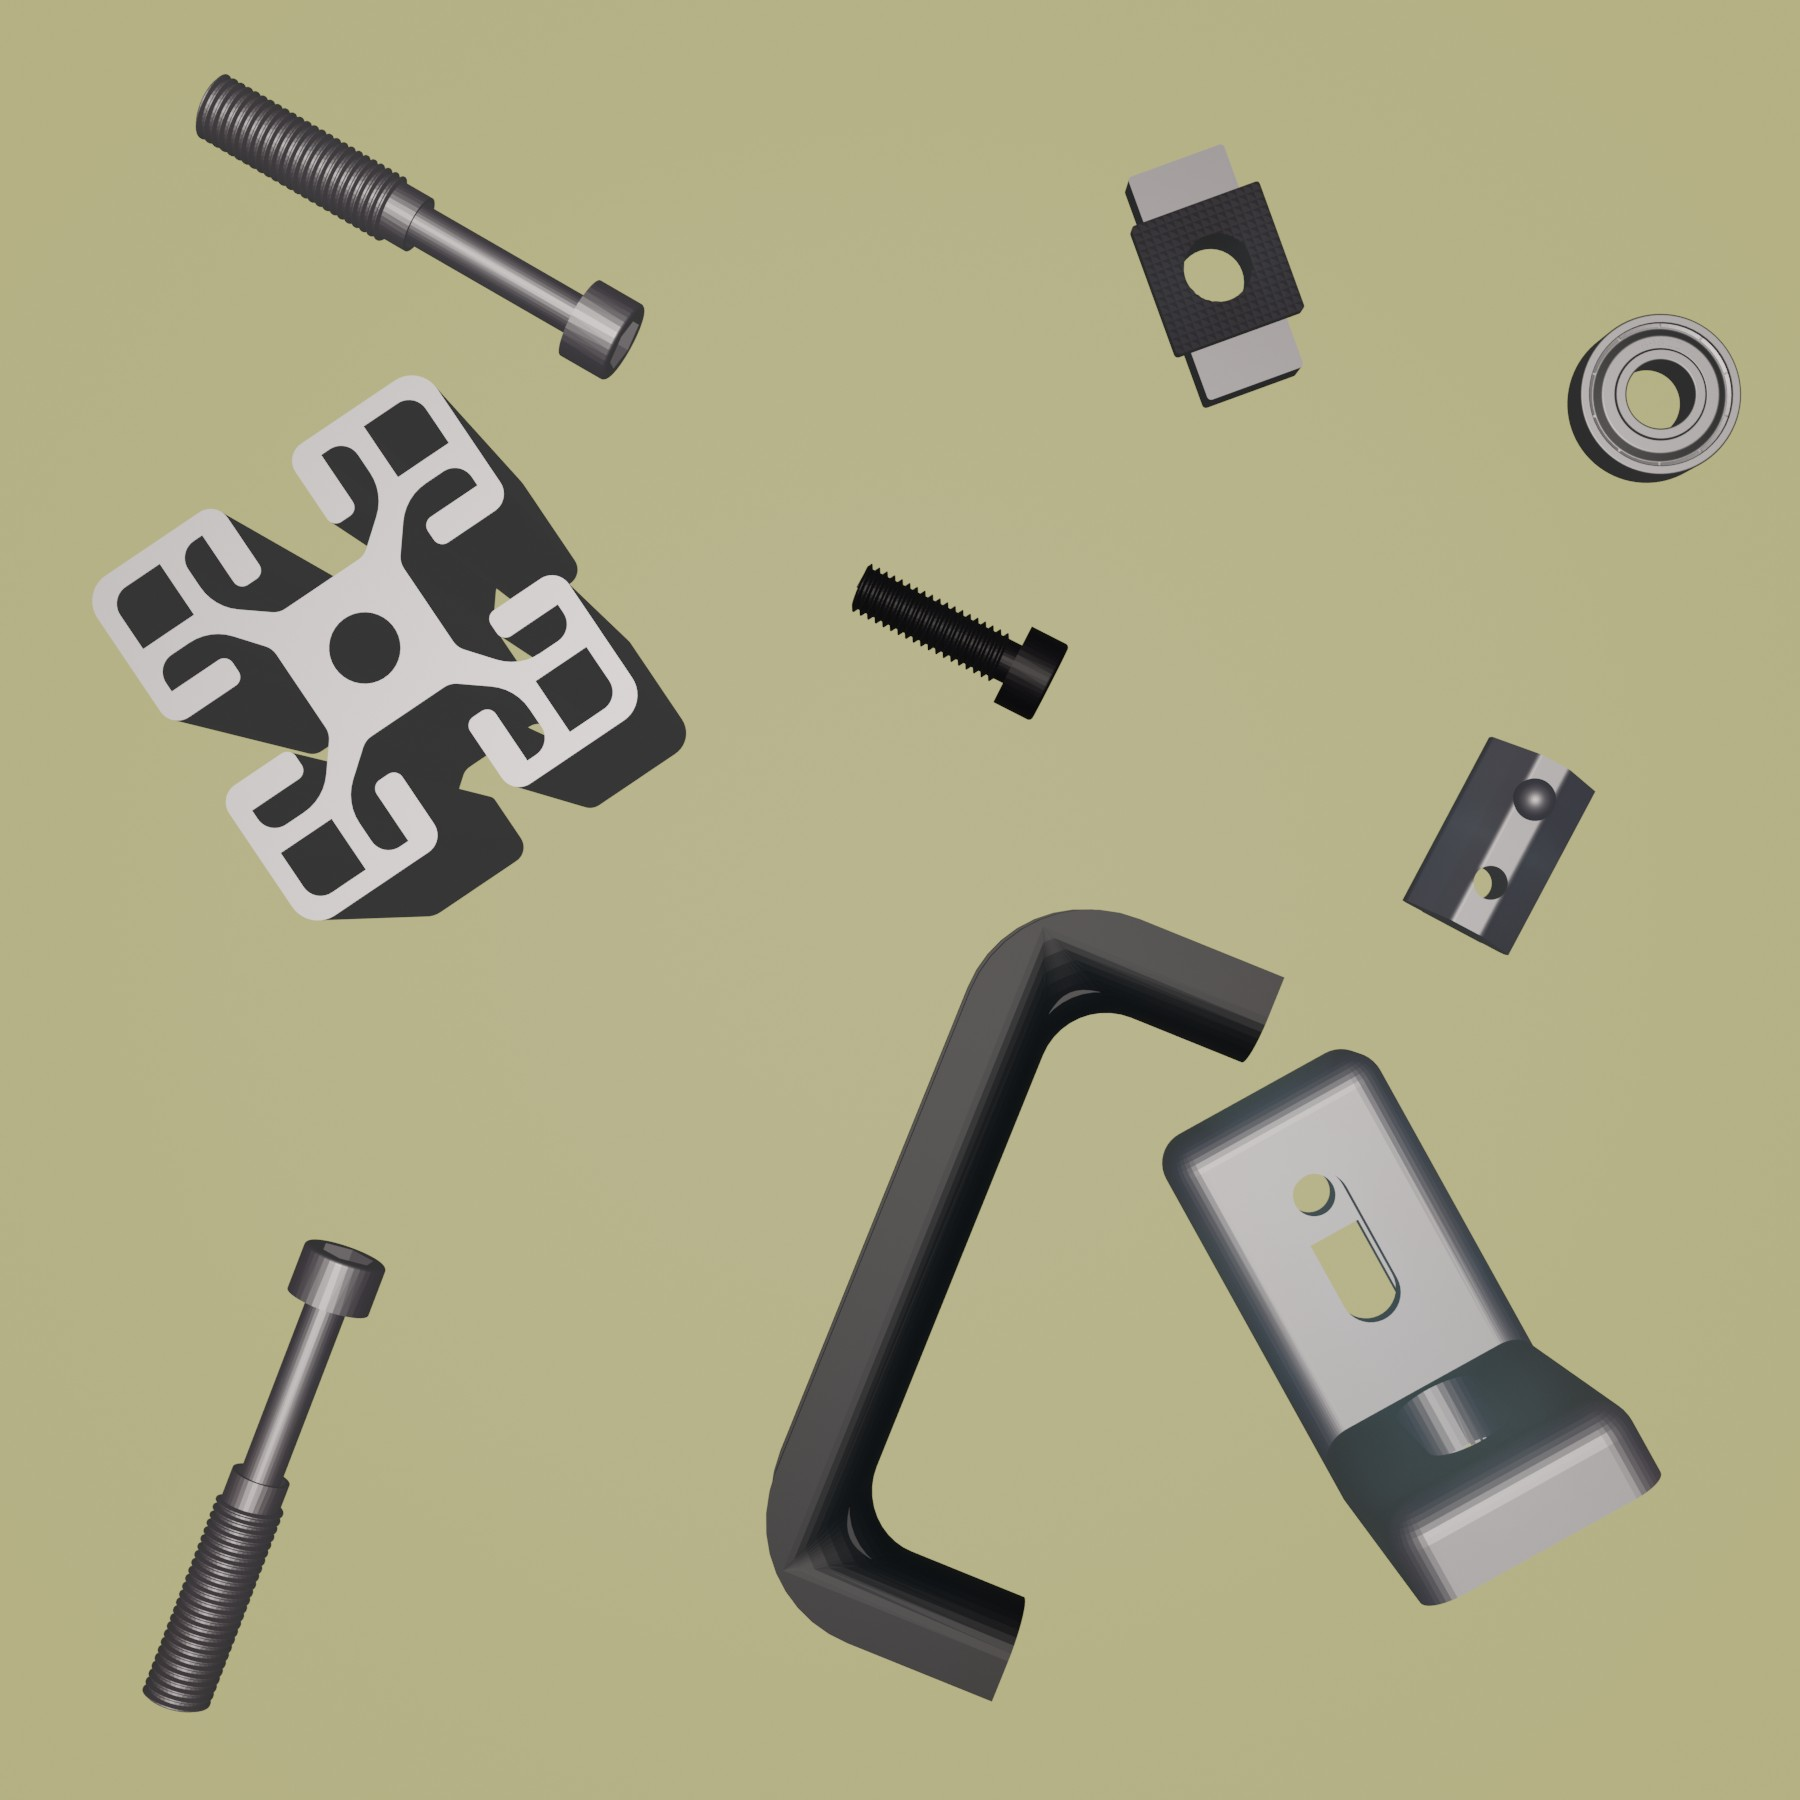Aluminium Extension: (89, 373, 687, 923)
Ball Bearing: (1564, 308, 1744, 486)
Multiwinkel: (1159, 1047, 1665, 1609)
Pull Handle: (762, 907, 1287, 1703)
Shoulder Socket Head Cap Screw: (191, 69, 646, 381), (138, 1236, 386, 1714)
Socket Head Cap Screw: (846, 562, 1070, 724)
T Nut Square: (1119, 138, 1305, 412)
T Spring Nut: (1398, 732, 1597, 958)
